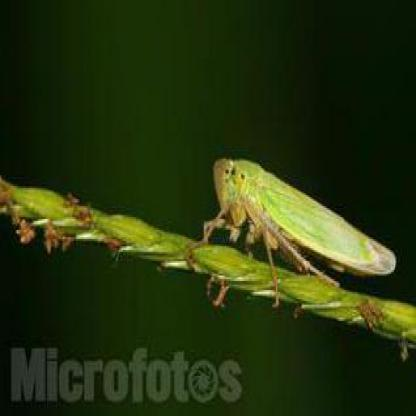Green-Leafhopper: (197, 153, 398, 300)
